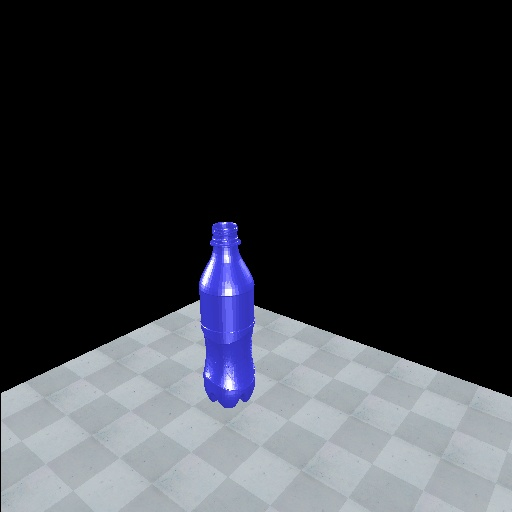bottle: (196, 217, 261, 411)
